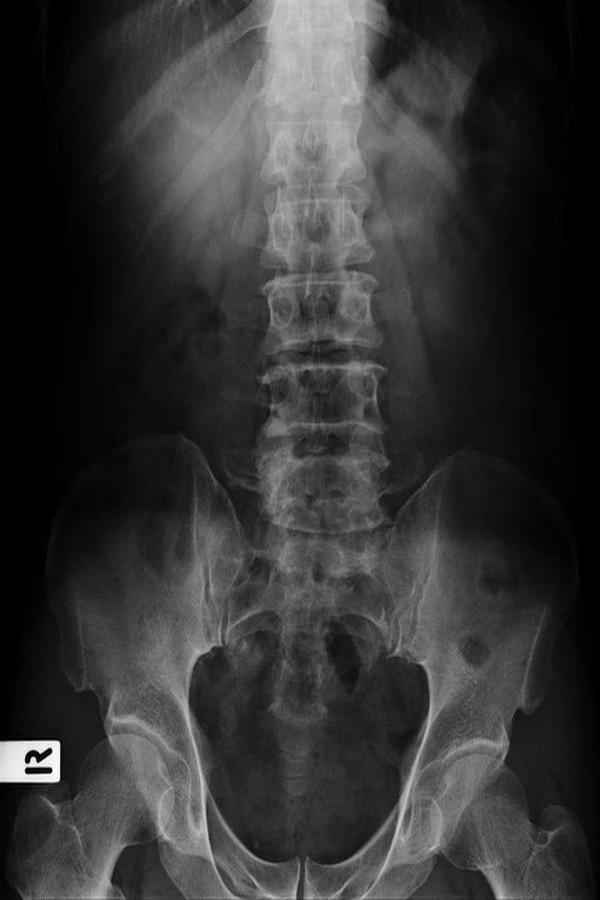lumbar scoliosis: (247, 12, 391, 601)
